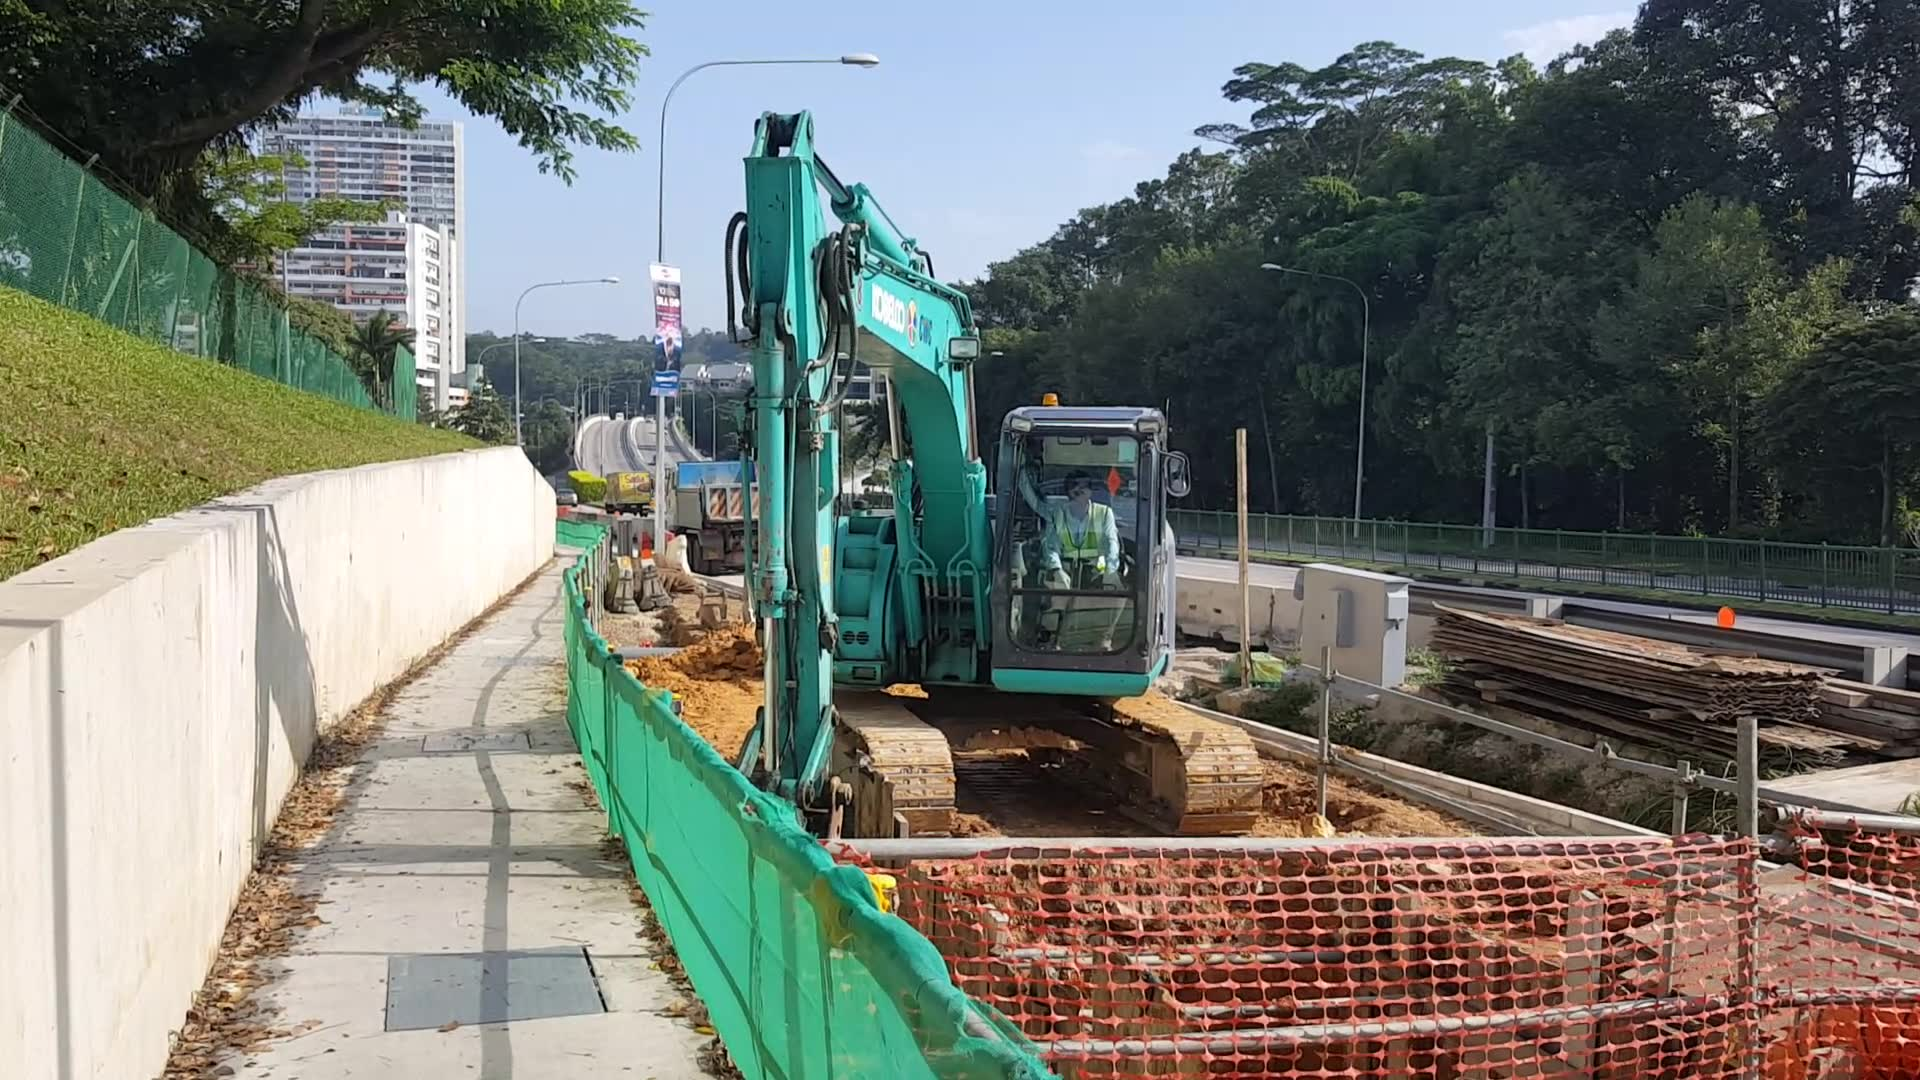cabin: (829, 401, 1176, 688)
forearm: (735, 109, 818, 740)
upperarm: (841, 256, 982, 650)
wheelbase: (837, 691, 1265, 832)
